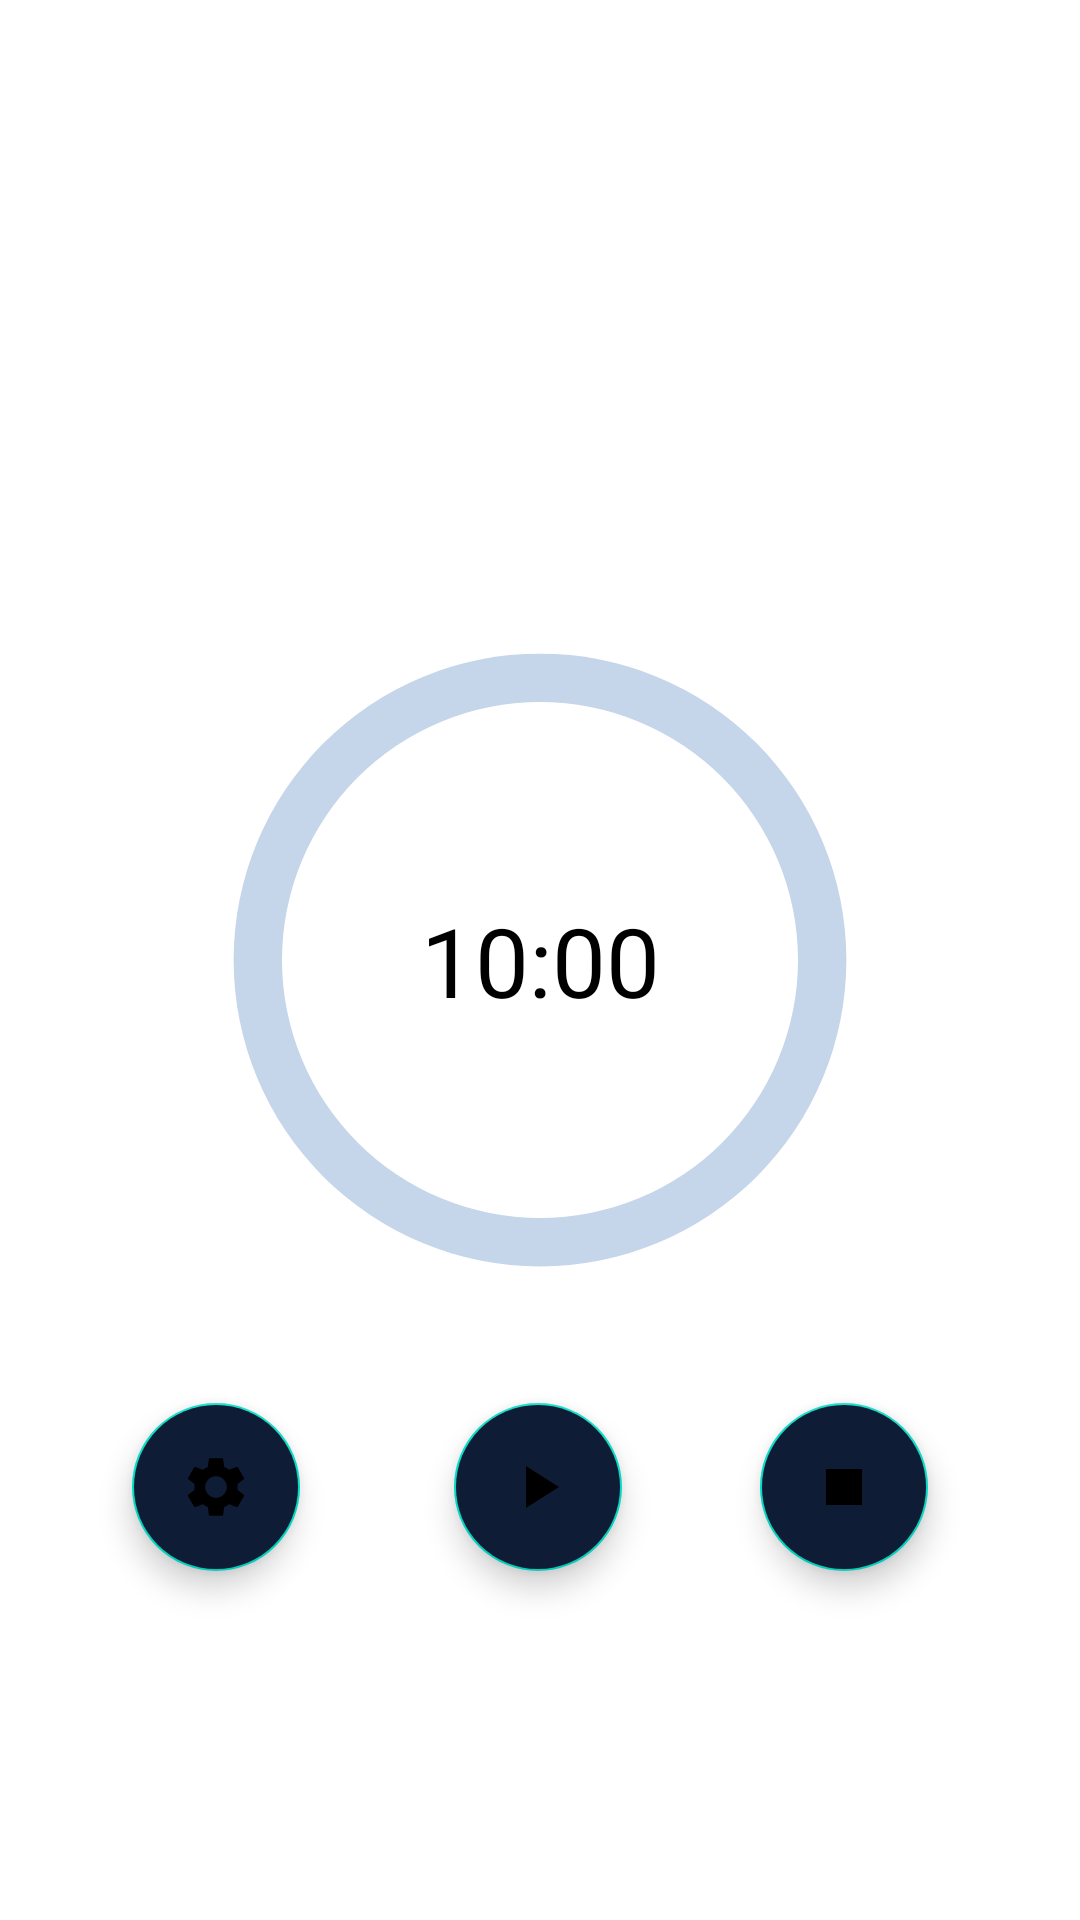

Icon click points for this 1080x1920 phone screenshot, format [x,y]:
play: [538,1487]
settings: [216,1487]
stop: [844,1487]
